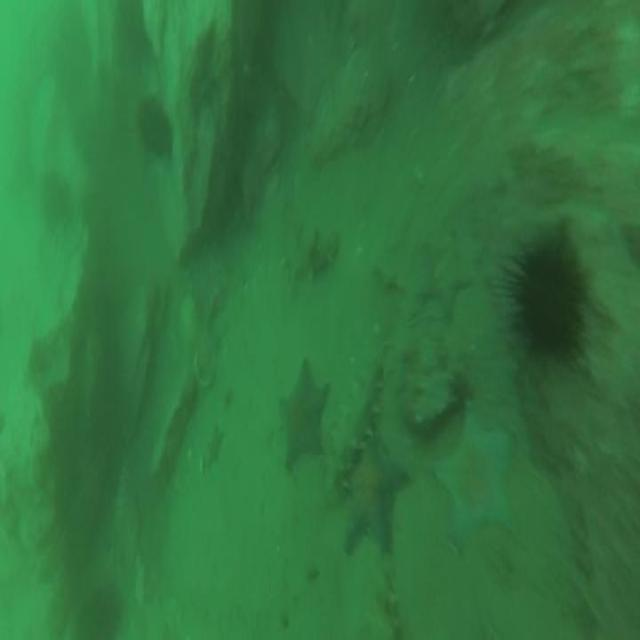echinus: (432, 400, 524, 553), (507, 229, 590, 379), (135, 92, 175, 166), (39, 169, 77, 232)
holothurian: (326, 357, 385, 485), (284, 225, 342, 288)
starfish: (341, 427, 412, 556), (276, 357, 332, 479)
